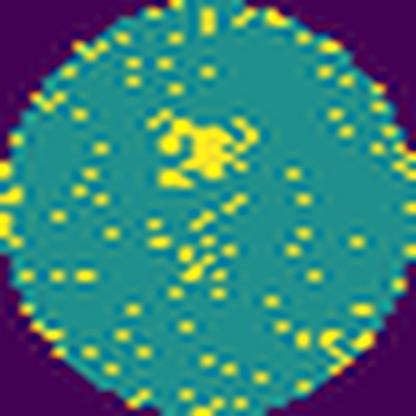Loc: (144, 112, 264, 188)
